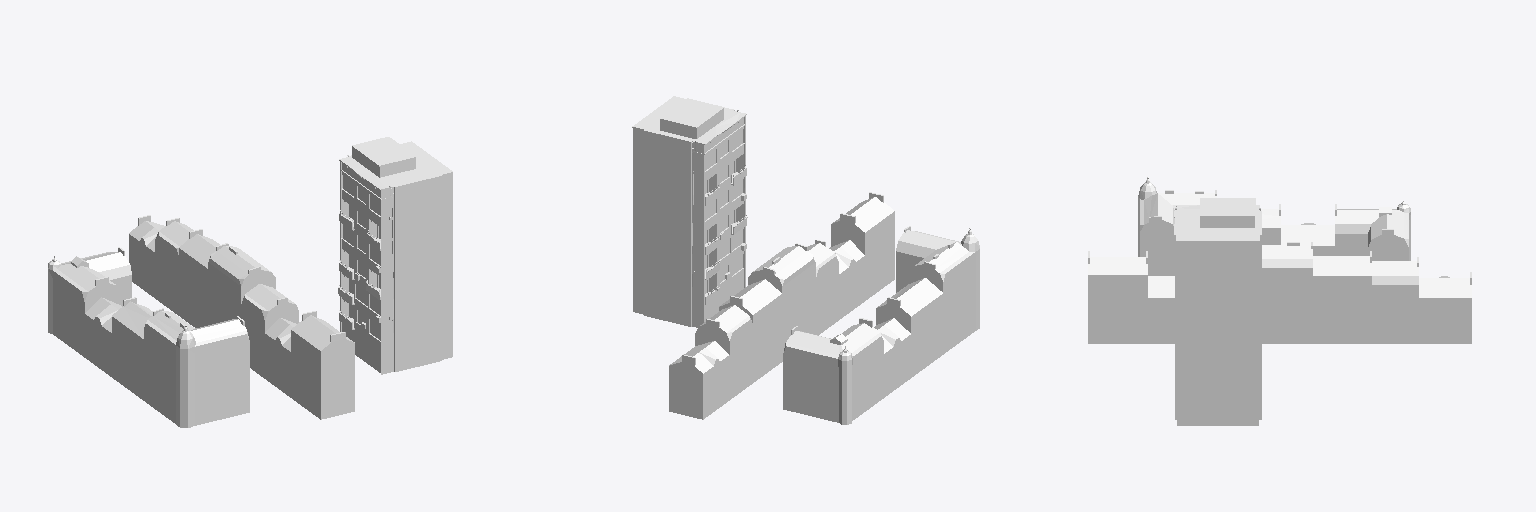
File: buildings.obj
3 views of the same model, side by side, from view 1: azimuth 30°, elevation 25°; view 2: azimuth 150°, elevation 25°; view 3: azimuth 270°, elevation 25° (orthographic).
Parts seen in each view (by area): view 1: 12.1.99.0; view 2: 12.1.99.0; view 3: 12.1.99.0.
Boxes of the visible parts, box(x1,y1,x2,y2) form: 12.1.99.0: box(48, 137, 452, 427); 12.1.99.0: box(632, 96, 979, 424); 12.1.99.0: box(1088, 177, 1471, 425).
Size of the model in its own units: 106 by 68.67 by 120.